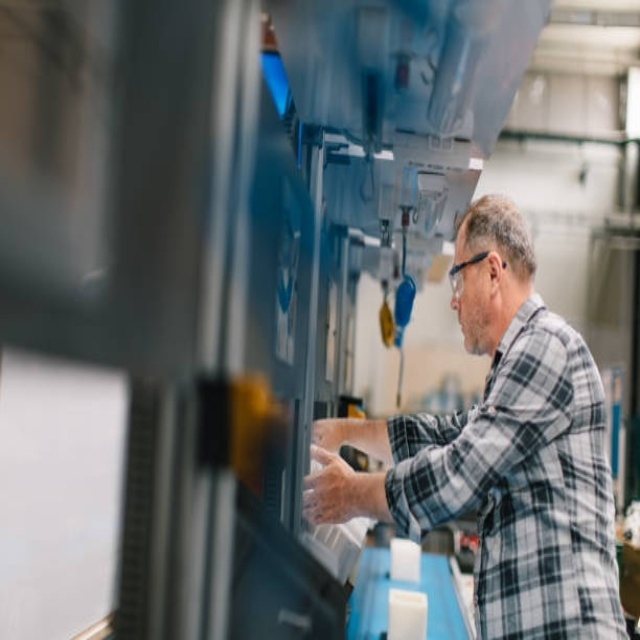Gafas: (448, 251, 506, 302)
Sin_guantes: (300, 445, 366, 527)
Sin_mascara: (452, 303, 478, 351)
